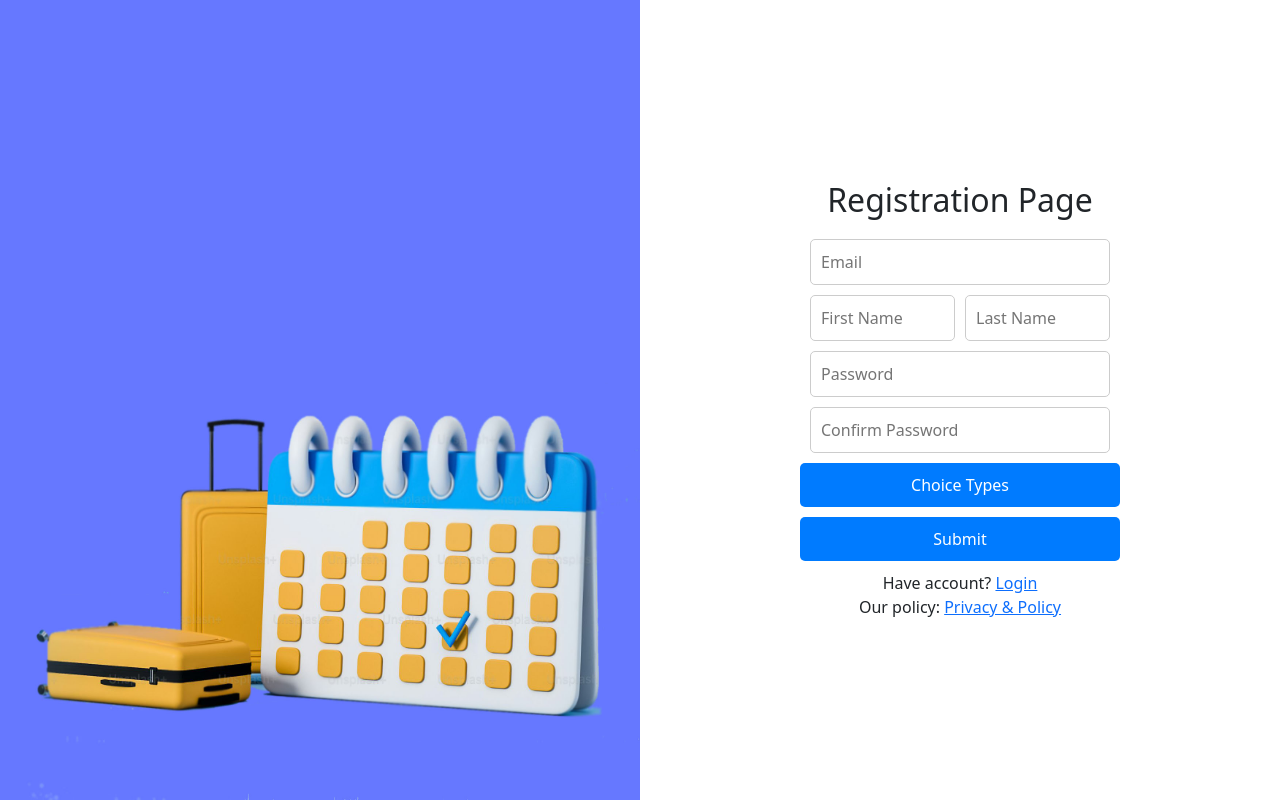
RegistrationPage › opens modal when "Choice Types" is clicked
Click the button "Choice Types": (960, 485) [800, 463, 1120, 507]
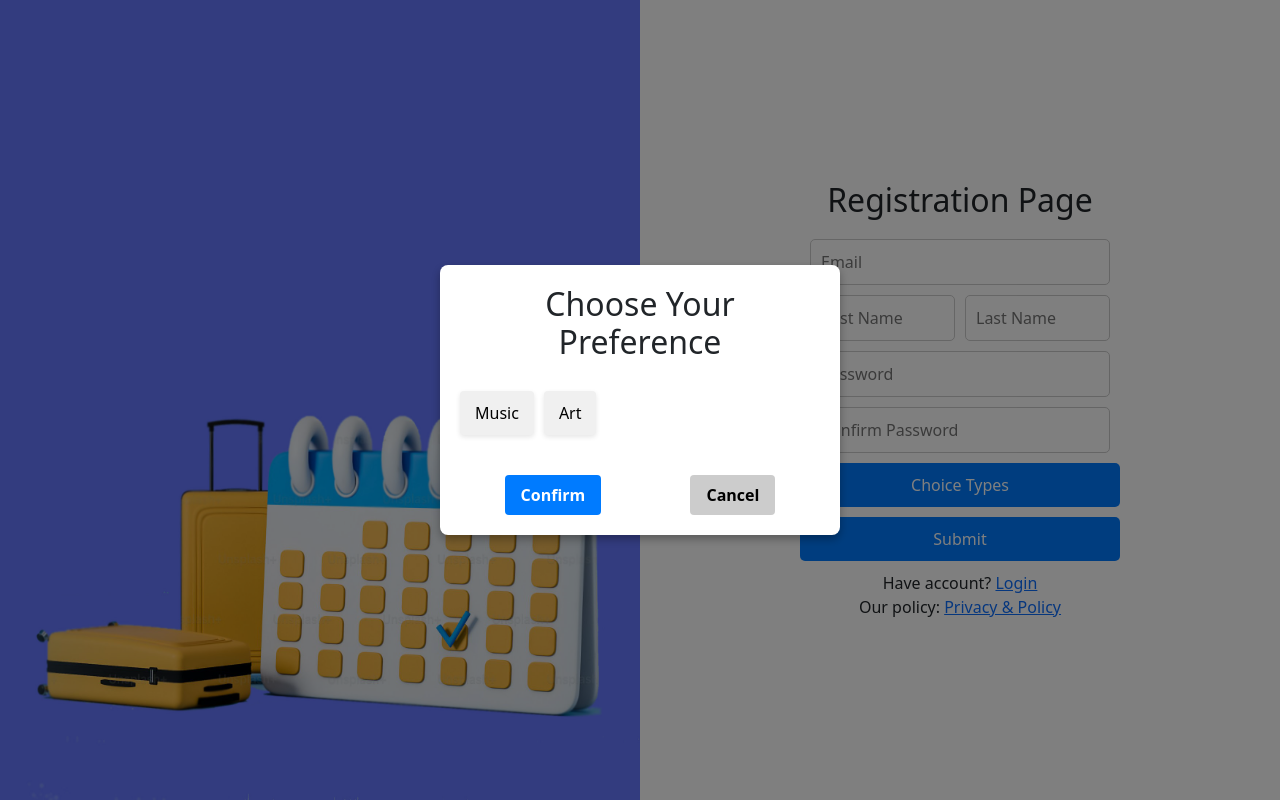
Expected: the button "Confirm" is shown, [505, 475, 601, 515]
